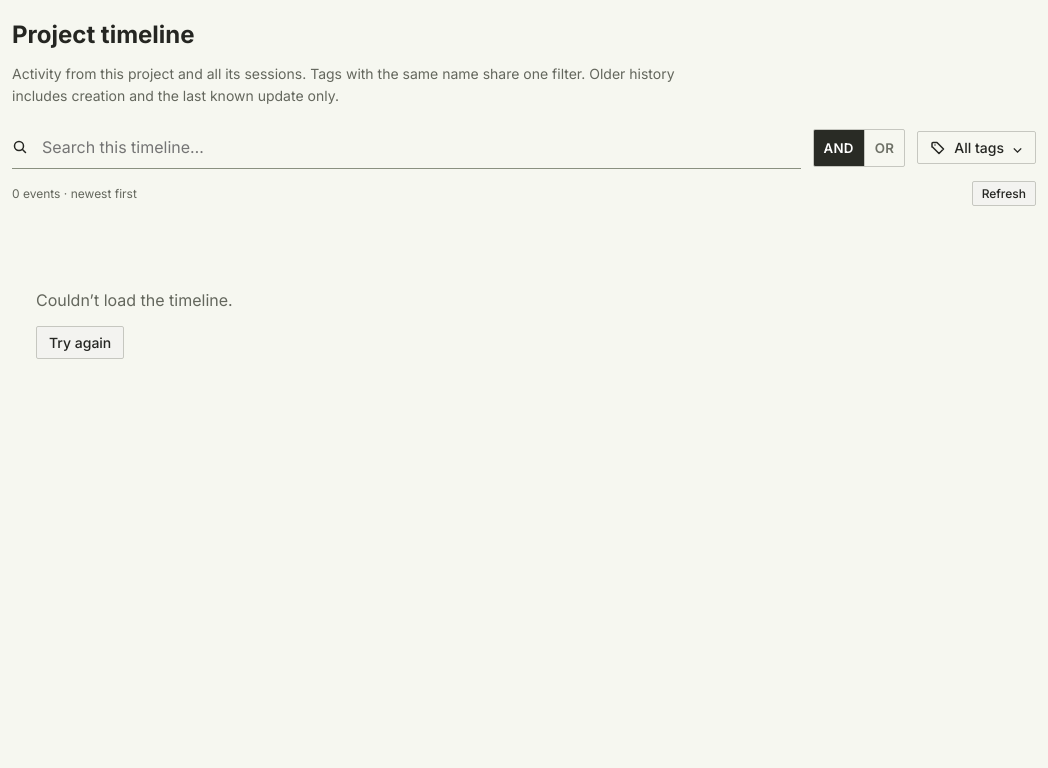
shows a recoverable error when history cannot load
Expected: the text "Couldn’t load the timeline." is shown, [36,290,233,310]
Click the button "Try again" at (80, 343), box [36,326,124,359]
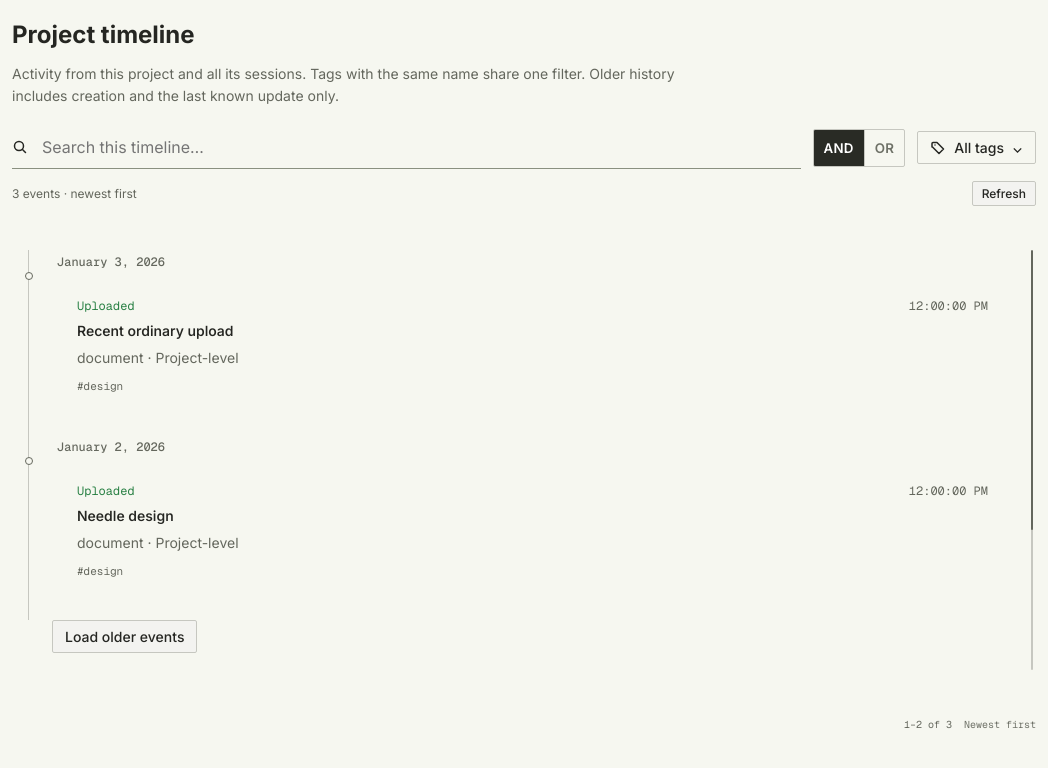
Expected: the heading "Recent ordinary upload" is shown, [77,322,234,339]
